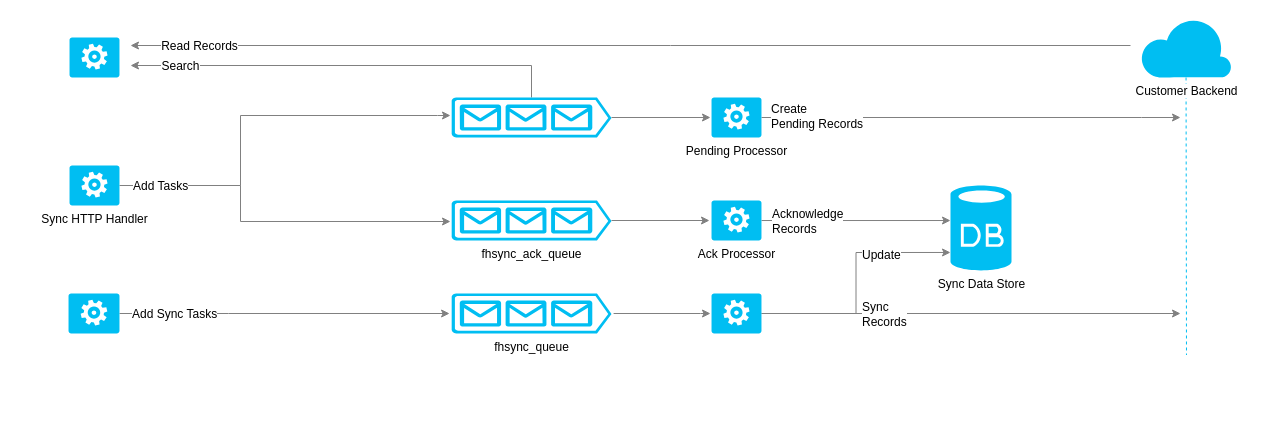
Image size: 1264x433. Some labels were removed from this diagram. Here are the shapes that lost their labels. From the top down, the centre of each, then its label:
At pixel 94 57: "Sync Records HTTP Handler".
At pixel 531 117: "fhsync_pending_queue".
At pixel 93 313: "Sync Scheduler".
At pixel 736 313: "Sync Processor".
